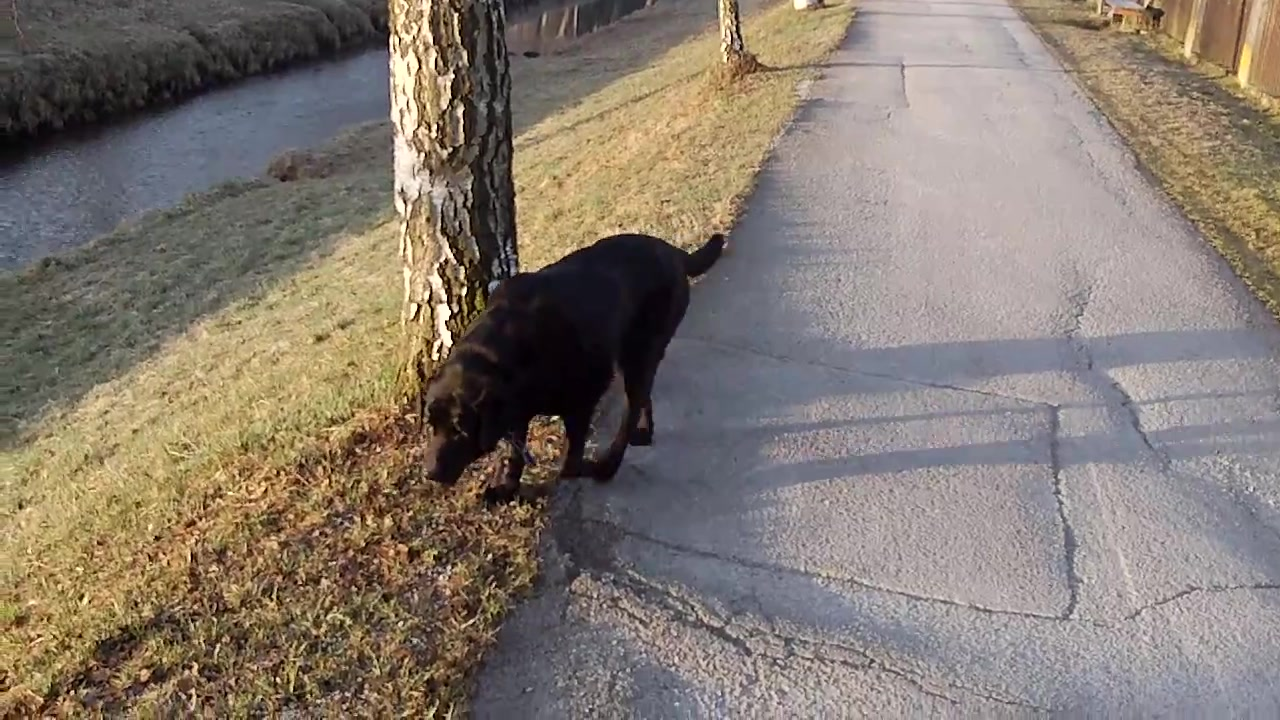dog: (416, 232, 731, 500)
